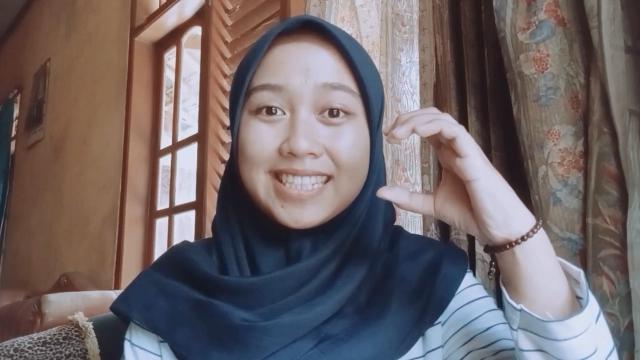C: (375, 105, 503, 240)
